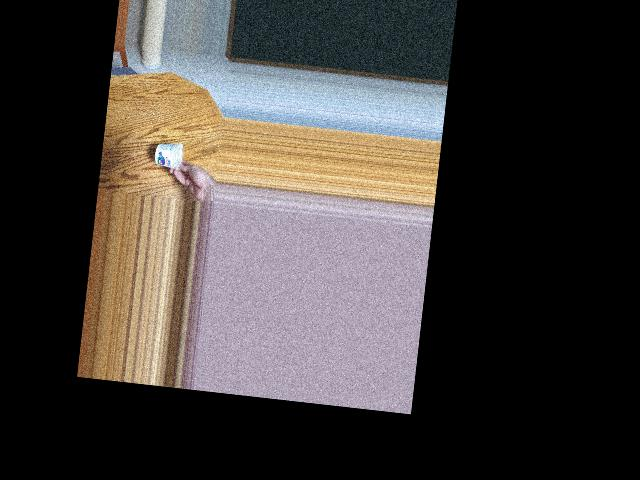cotage: (153, 138, 190, 176)
